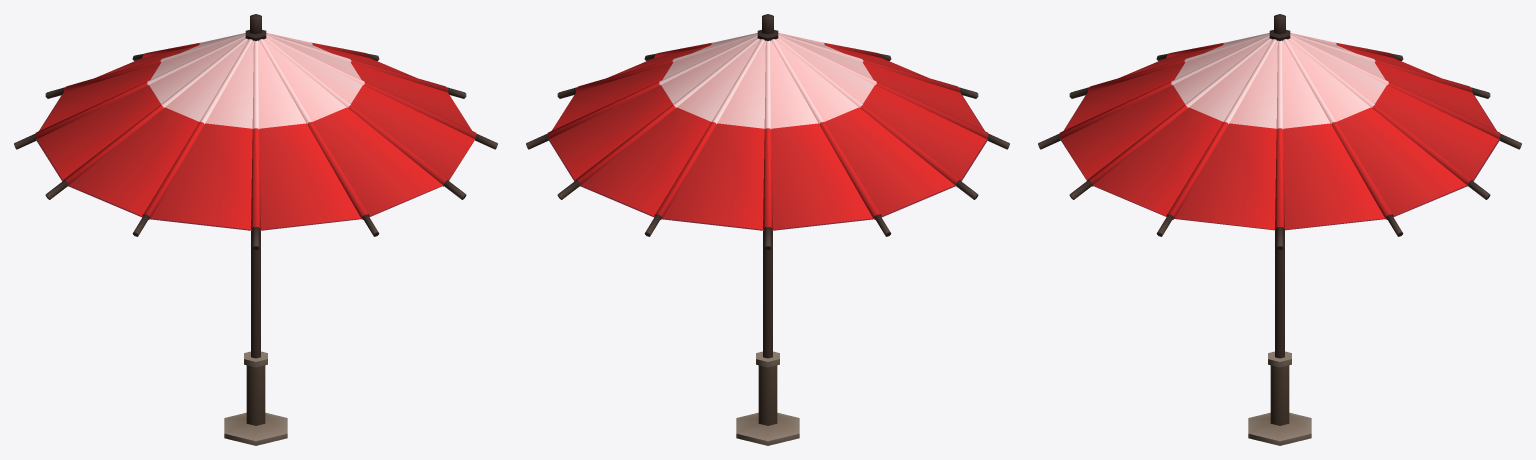
Rendered from SK_parasol.FBX.
The picture shows the model from 3 angles, left to right: view 1: azimuth 30°, elevation 25°; view 2: azimuth 150°, elevation 25°; view 3: azimuth 270°, elevation 25°; orthographic projection.
Parts seen in each view (by area): view 1: SK_parasol; view 2: SK_parasol; view 3: SK_parasol.
Part boxes in pixels (bbox=[...]): SK_parasol: bbox=[14, 14, 497, 445]; SK_parasol: bbox=[526, 14, 1009, 445]; SK_parasol: bbox=[1038, 14, 1521, 445].
Bounding box in the file's own units: 224 × 212 × 224.
